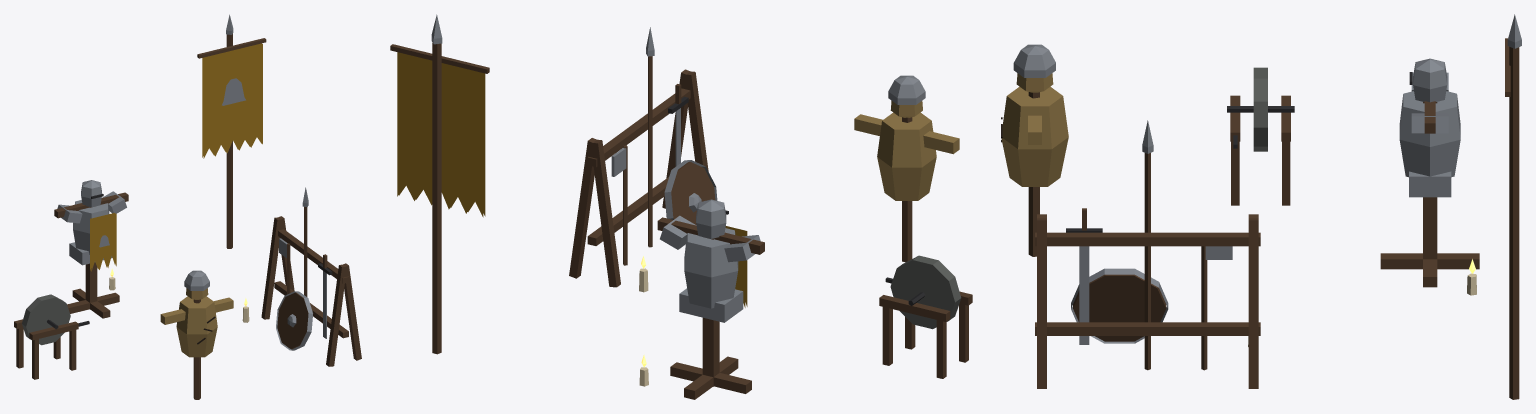
The model's file is armory.glb.
The picture shows the model from 3 angles, left to right: view 1: azimuth 30°, elevation 25°; view 2: azimuth 150°, elevation 25°; view 3: azimuth 270°, elevation 25°; orthographic projection. The views are drawn at different scales.
Parts seen in each view (by area): view 1: Banner, WeaponRack, ArmorStand, Dummy, Grindstone, GrindWheel; view 2: Banner, WeaponRack, ArmorStand, Dummy, Grindstone, GrindWheel; view 3: WeaponRack, ArmorStand, Dummy, Banner, Grindstone, GrindWheel.
Part boxes in pixels (box(x1,y1,x2,y2)): Banner: box(197, 14, 266, 248); WeaponRack: box(261, 187, 361, 366); ArmorStand: box(54, 180, 128, 318); Dummy: box(160, 270, 233, 399); Grindstone: box(14, 319, 89, 379); GrindWheel: box(22, 294, 70, 345); Banner: box(390, 14, 489, 354); WeaponRack: box(569, 27, 717, 287); ArmorStand: box(657, 199, 764, 399); Dummy: box(854, 75, 959, 262); Grindstone: box(879, 277, 972, 378); GrindWheel: box(890, 255, 961, 329); WeaponRack: box(1035, 120, 1260, 388); ArmorStand: box(1380, 58, 1479, 287); Dummy: box(1001, 44, 1068, 256); Banner: box(1505, 14, 1521, 399); Grindstone: box(1230, 95, 1290, 205); GrindWheel: box(1227, 67, 1294, 151).
Bounding box in the file's own units: 4.26 × 3.02 × 3.69.
